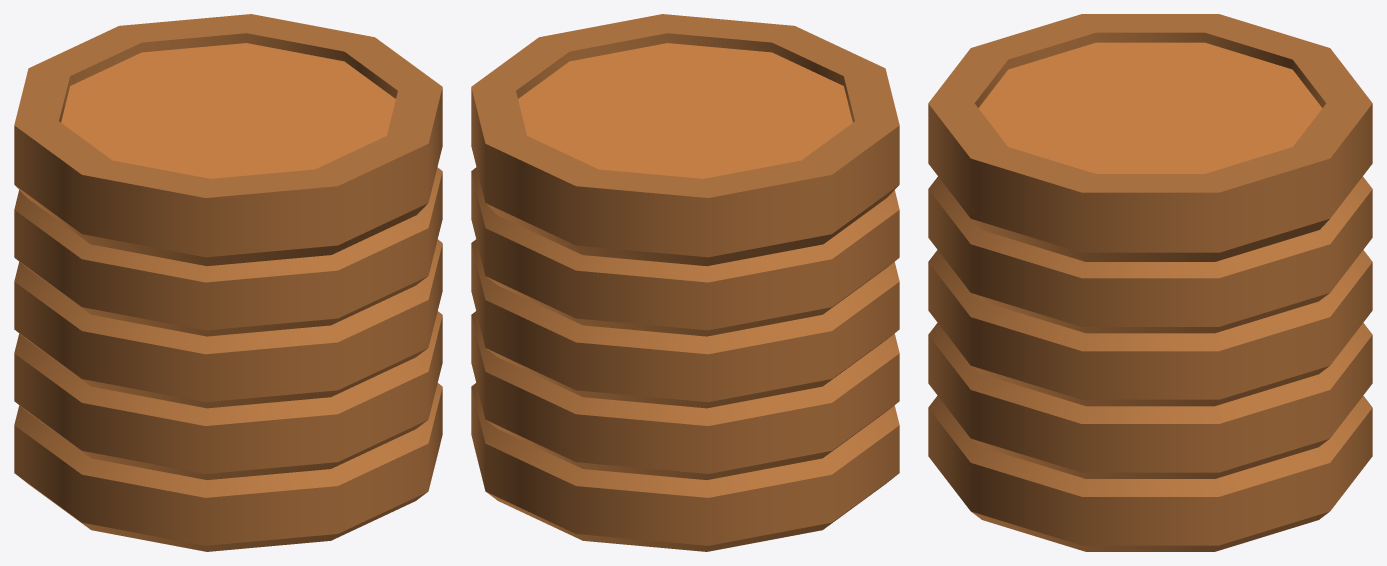
Rendered from Coin_Tower_02.fbx.
The picture shows the model from 3 angles, left to right: view 1: azimuth 30°, elevation 25°; view 2: azimuth 150°, elevation 25°; view 3: azimuth 270°, elevation 25°; orthographic projection.
Parts seen in each view (by area): view 1: Coin_Tower_02; view 2: Coin_Tower_02; view 3: Coin_Tower_02.
Boxes of the visible parts, bbox=[...] form: Coin_Tower_02: bbox=[14, 14, 442, 551]; Coin_Tower_02: bbox=[471, 14, 899, 551]; Coin_Tower_02: bbox=[928, 14, 1372, 551].
Bounding box in the file's own units: 0.0413 × 0.0394 × 0.0435.
